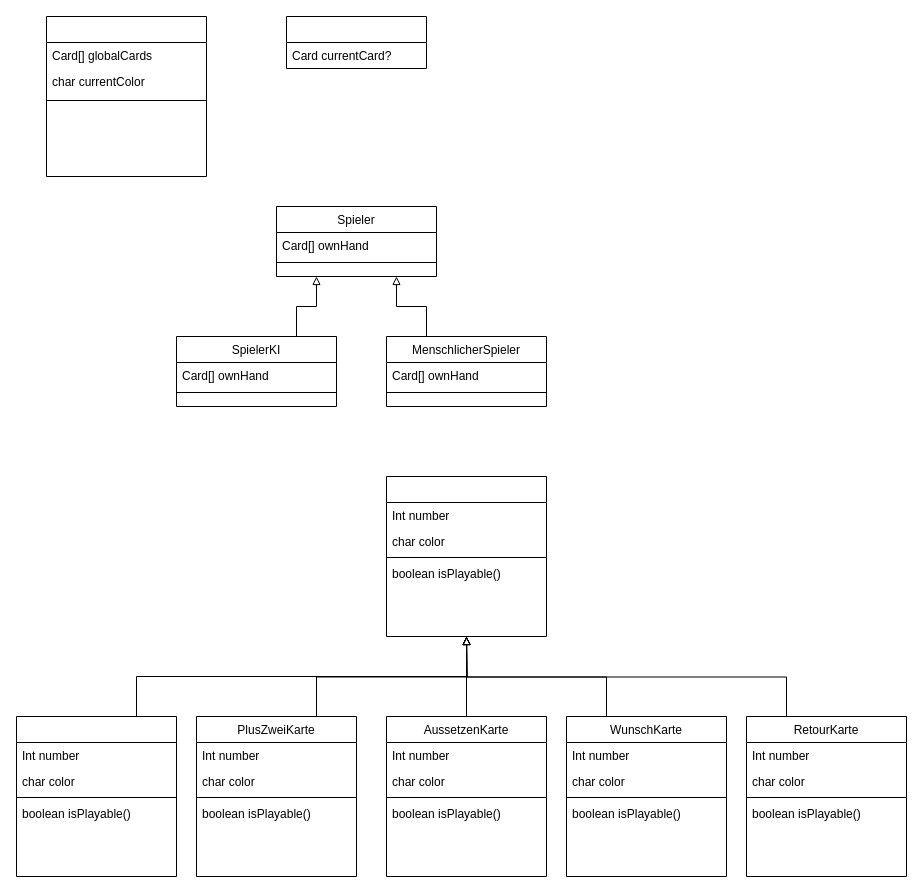
The diagram is 923 pixels wide and 893 high, and some of its shapes have lost their labels. The shapes that lost their labels are listed below. From the top down, each one's box as (x1, y1, x2, y2) in pixels, then its label:
(286, 16, 426, 68): Spielfeld
(46, 16, 206, 176): Uno-Spiel
(386, 476, 546, 636): Karten
(16, 716, 176, 876): PlusVierWunschKarte
